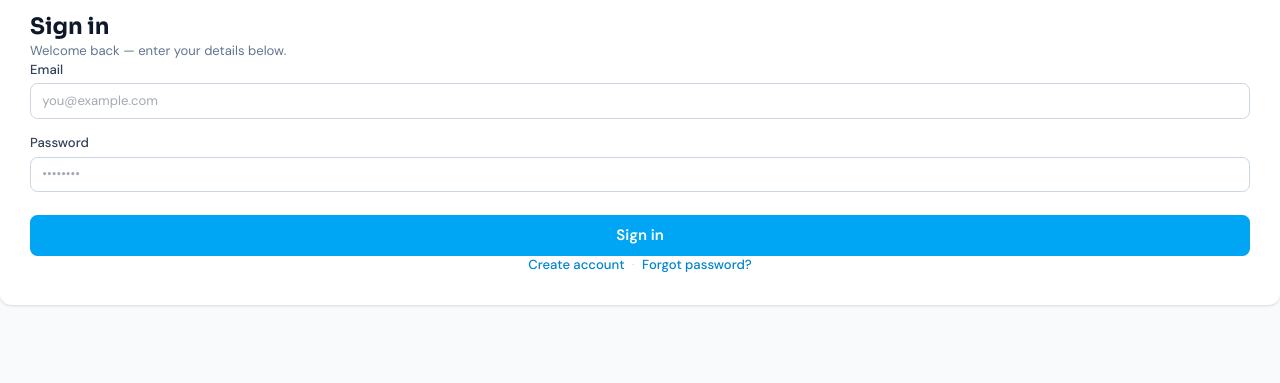
Test: LoginForm › shows validation error when email is empty
Step 1. Click the button "Sign in" → (640, 235), box x1=30 y1=215 x2=1250 y2=256
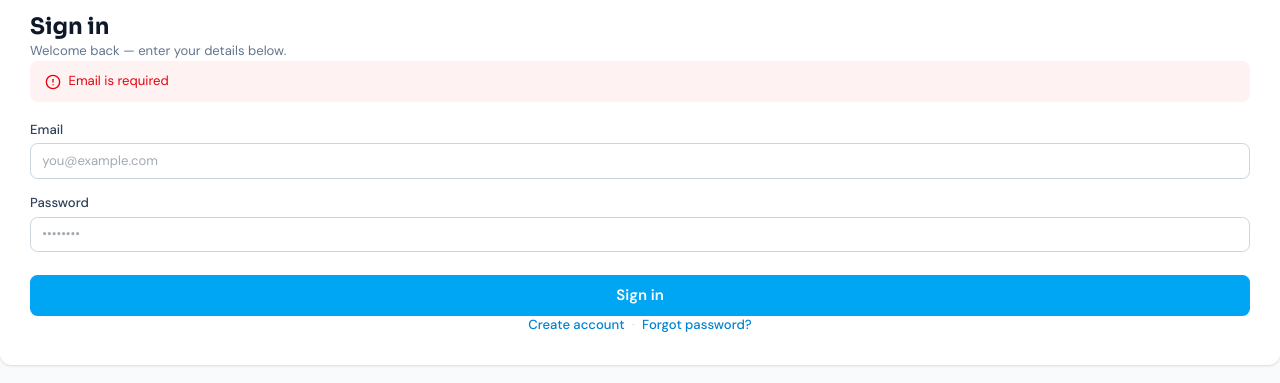
Expected: the message reads "Email is required", x1=68 y1=72 x2=169 y2=89
